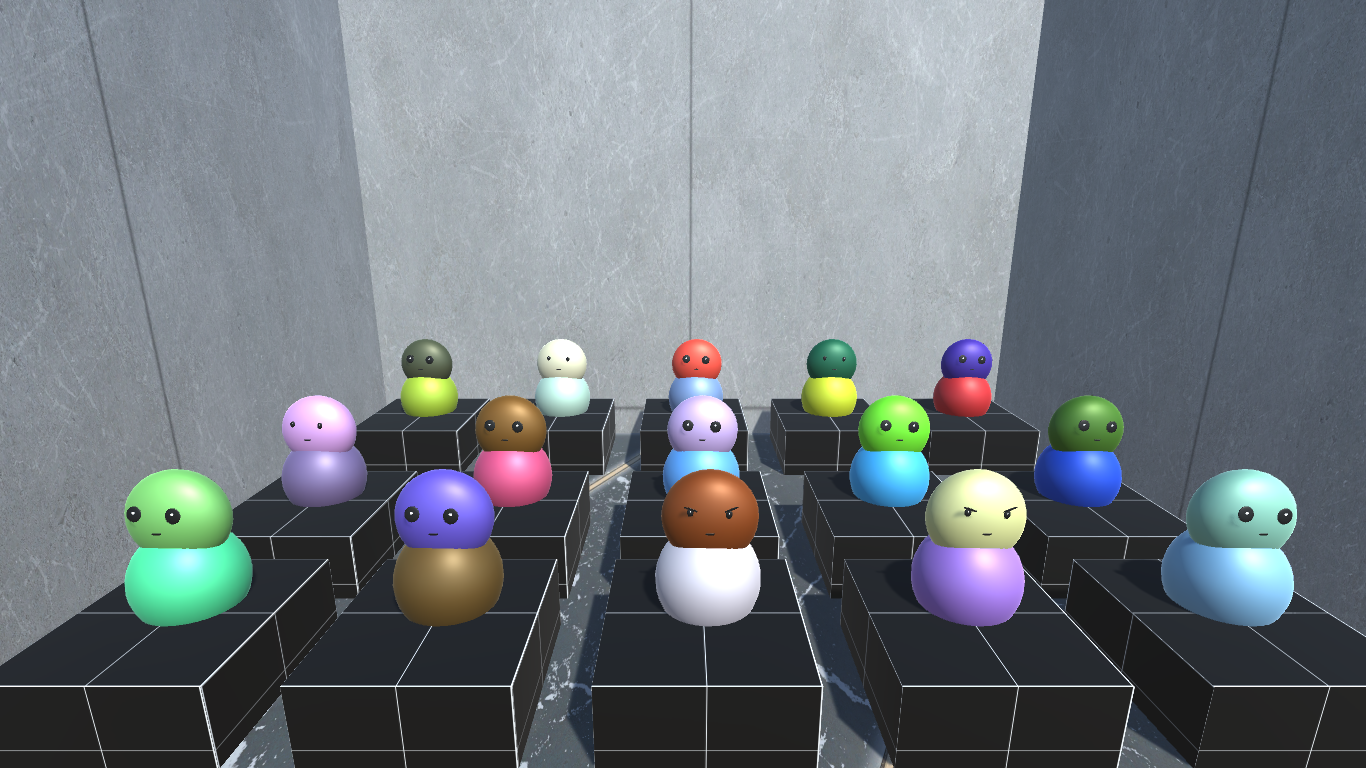blob_atento: (1160, 463, 1298, 632), (122, 464, 254, 626), (390, 465, 513, 633), (468, 395, 567, 518), (1033, 394, 1131, 515), (850, 393, 929, 509), (662, 394, 742, 494), (933, 341, 1000, 430), (402, 336, 458, 416), (664, 341, 727, 410)
blob_normal: (273, 393, 369, 503), (530, 334, 599, 422), (795, 336, 859, 424)
blob_raiva: (910, 464, 1027, 631), (650, 473, 766, 630)
